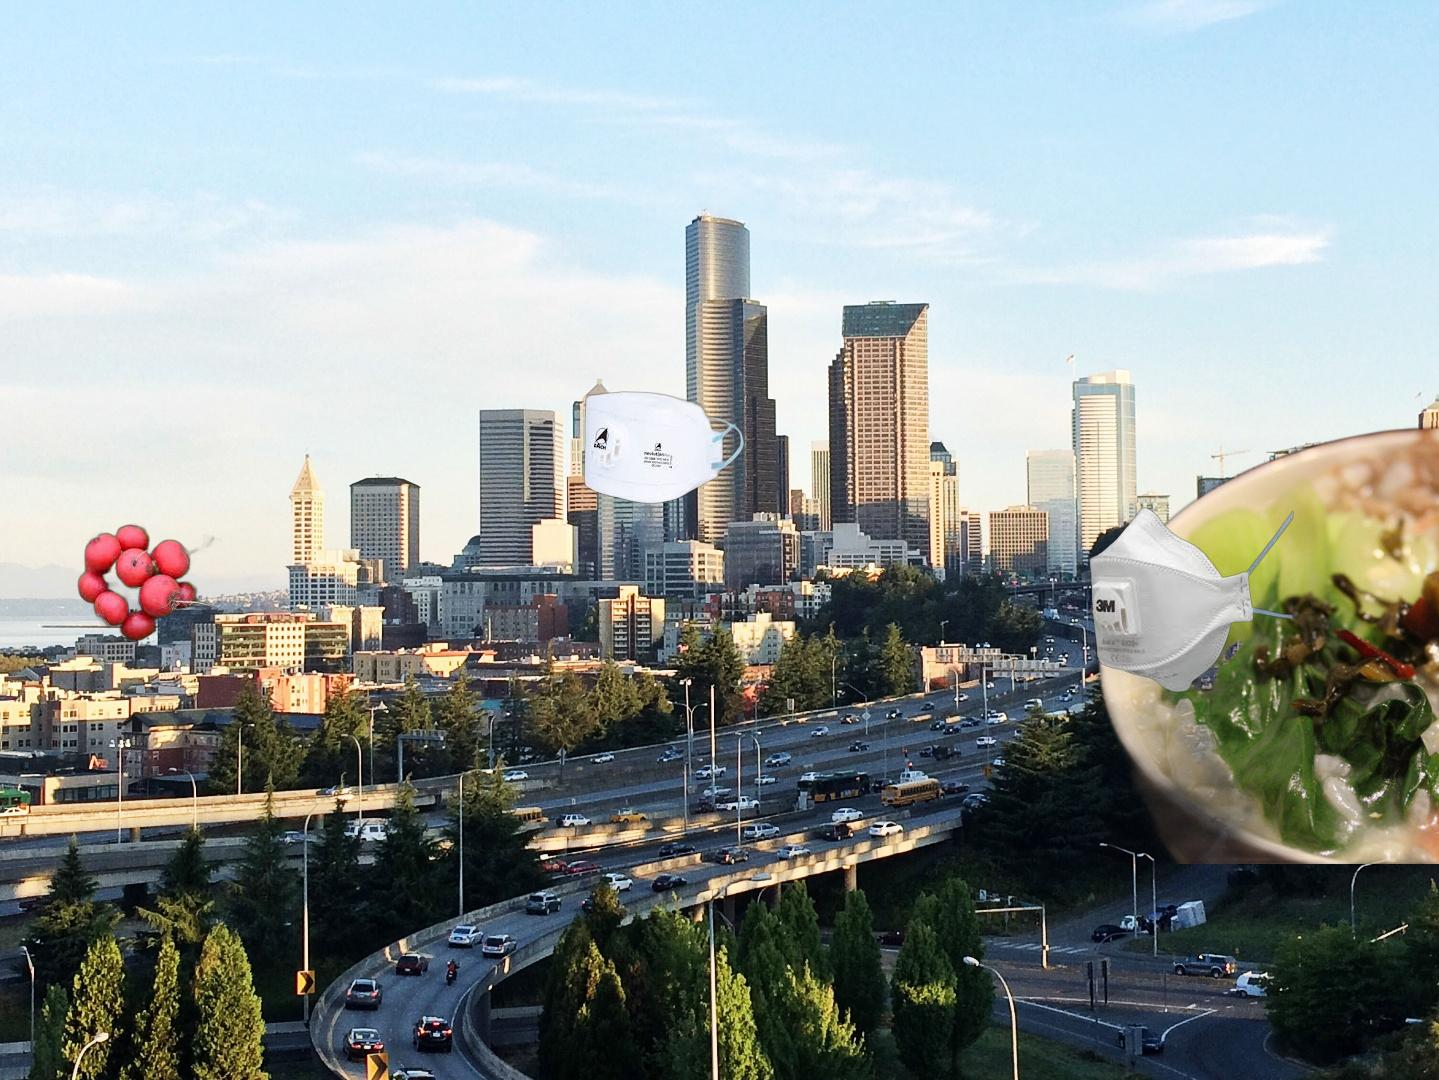biological: (1080, 423, 1439, 864), (42, 486, 265, 648)
trash: (1086, 505, 1296, 695), (581, 349, 763, 506)
